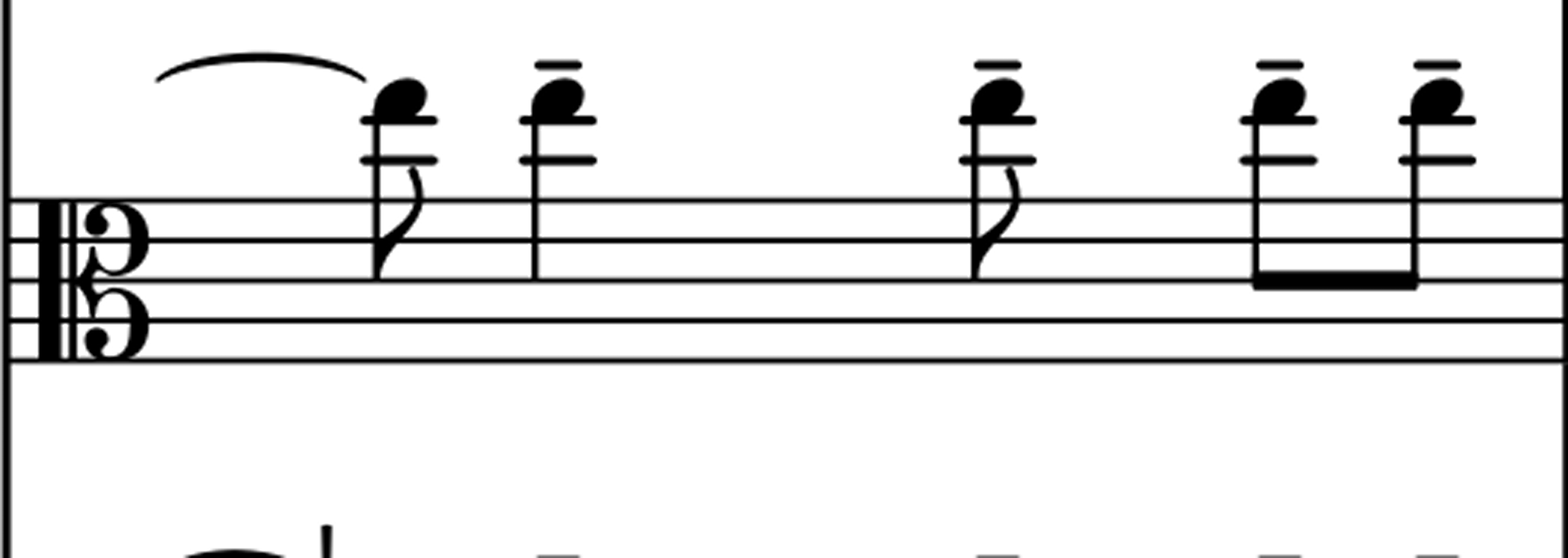clefCAlto: (28, 175, 164, 390)
ledgerLine: (1242, 117, 1316, 123), (364, 117, 437, 123), (1403, 117, 1475, 123)
noteheadBlackInSpace: (1411, 79, 1462, 120), (375, 79, 425, 118), (532, 79, 582, 118), (1254, 79, 1304, 118), (972, 79, 1022, 118)
tie: (185, 551, 285, 558)
